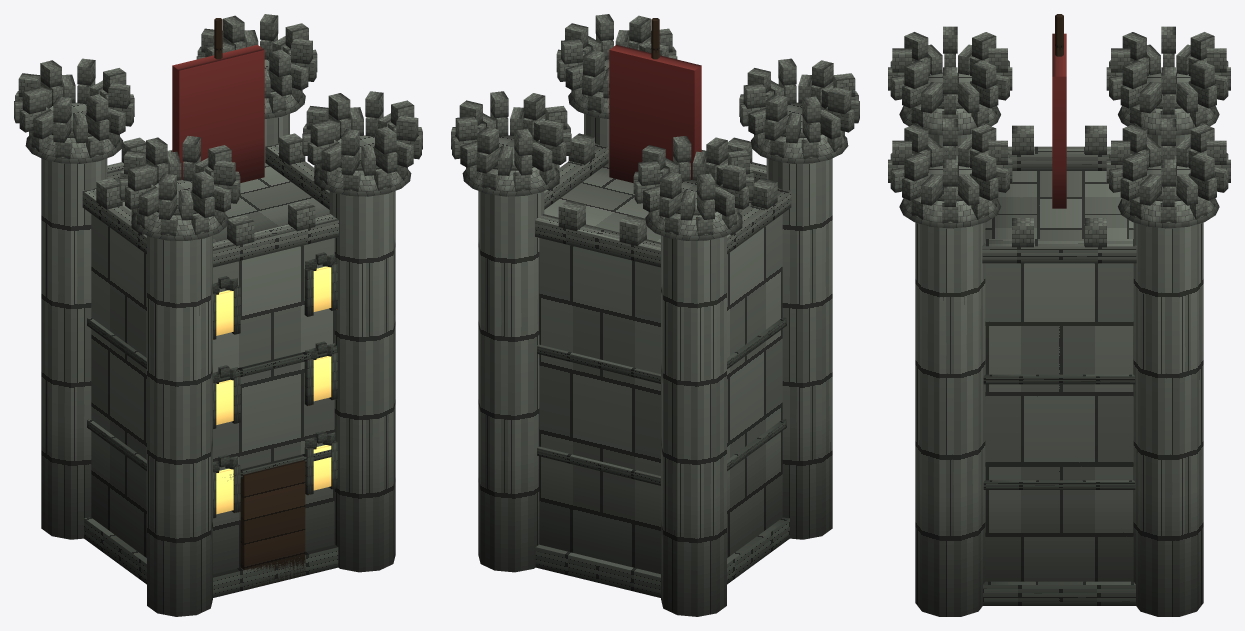
Rendered from keep.gltf.
3 views of the same model, side by side, from view 1: azimuth 30°, elevation 25°; view 2: azimuth 150°, elevation 25°; view 3: azimuth 270°, elevation 25° (orthographic). The views are drawn at different scales.
Parts seen in each view (by area): view 1: keep; view 2: keep; view 3: keep.
Boxes of the visible parts, x1,y1,x2,y2 form: keep: (14,14,422,616); keep: (451,14,859,616); keep: (888,14,1230,616).
Bounding box in the file's own units: 2.35 × 4.1 × 2.35.
1 material, 1 textured.
